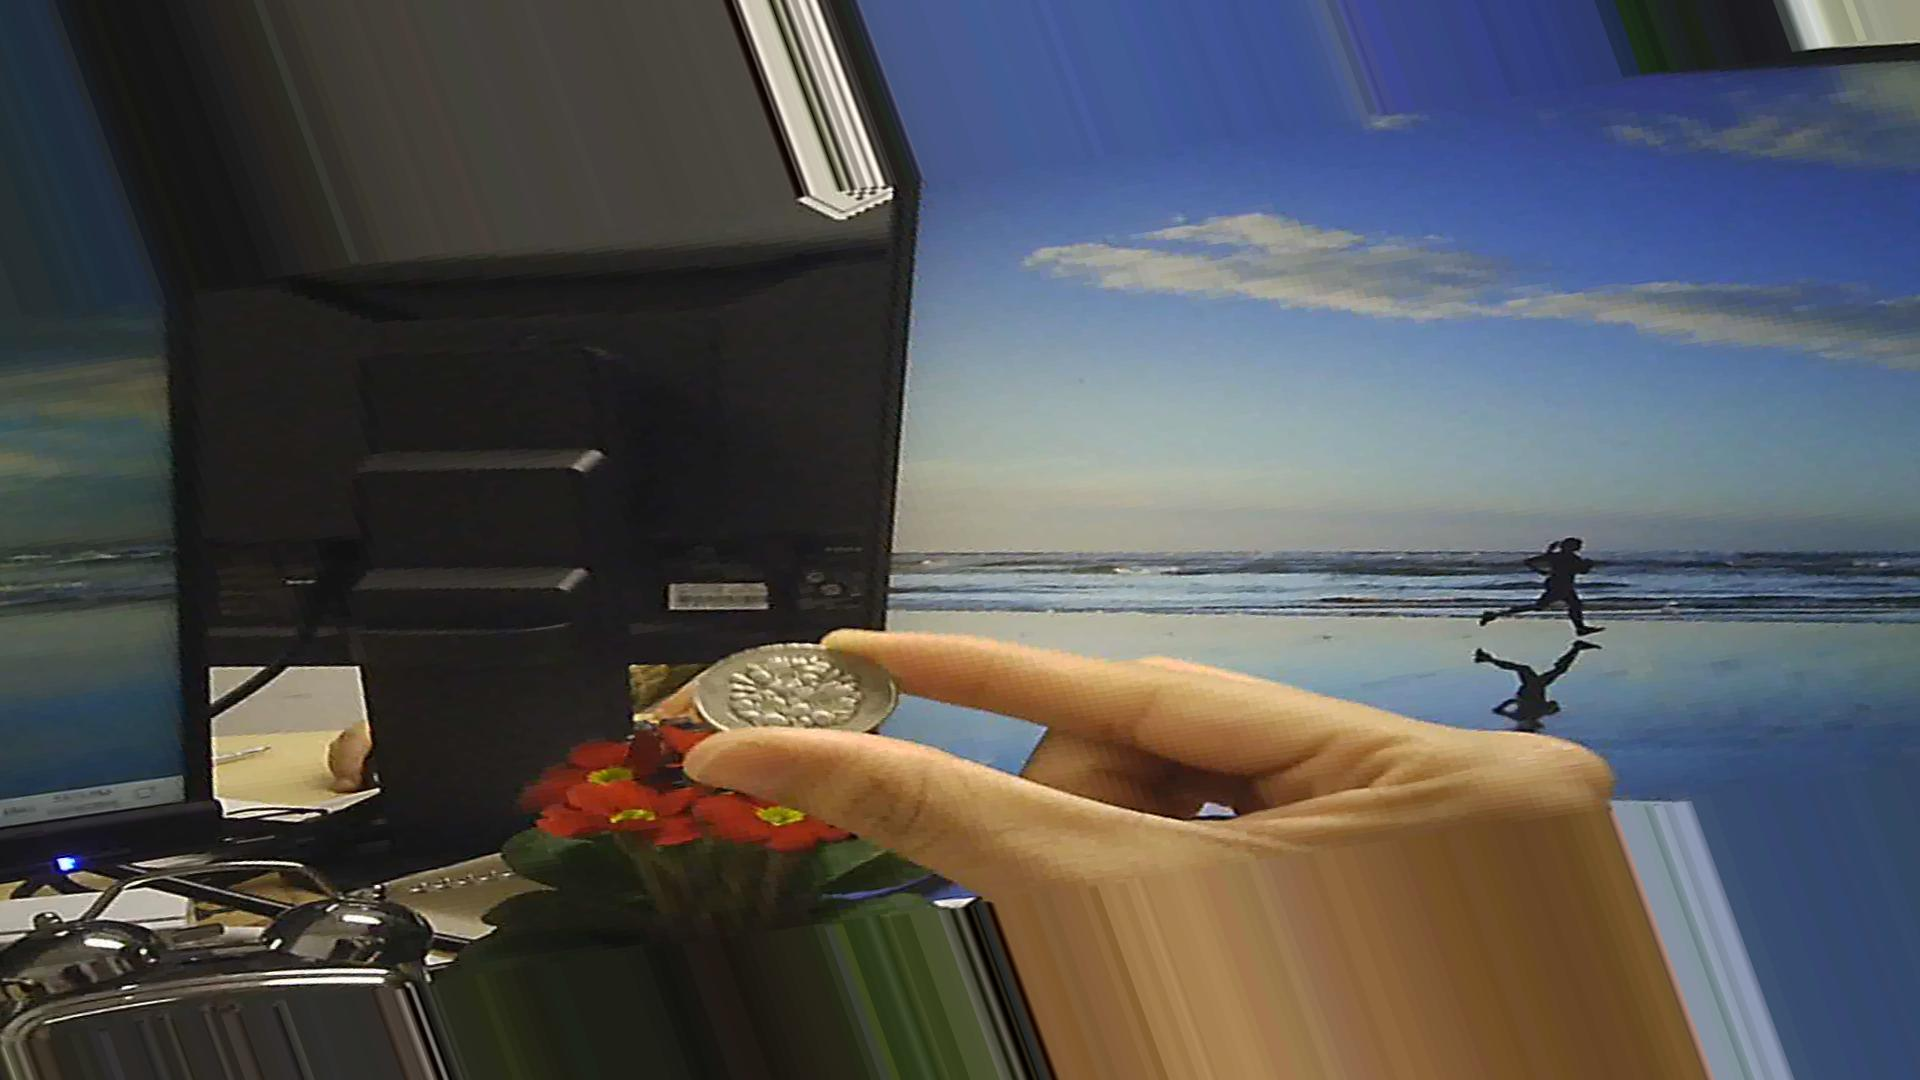100 Yen: (696, 628, 905, 761)
